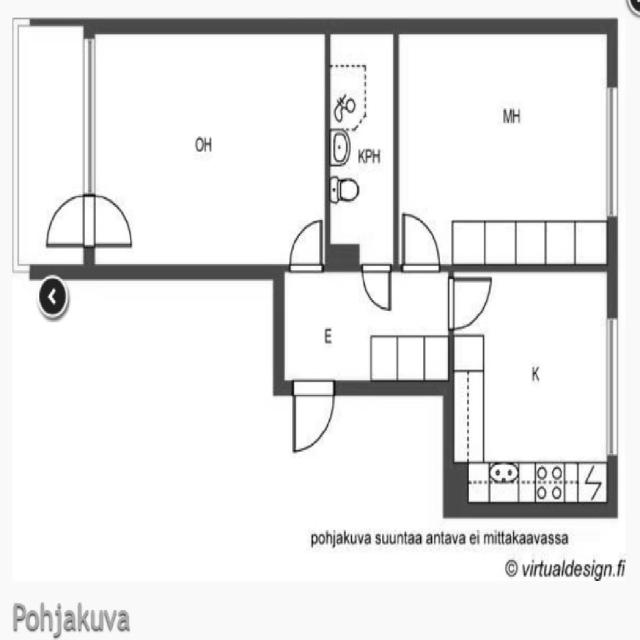door: (34, 193, 121, 248), (288, 376, 338, 458), (78, 190, 136, 246), (446, 271, 495, 334), (399, 208, 444, 276), (288, 216, 324, 275), (357, 259, 393, 316)
window: (76, 31, 100, 199), (601, 307, 622, 463), (601, 81, 623, 224)
zone: (86, 29, 332, 271), (394, 29, 618, 266), (452, 267, 615, 508), (280, 268, 453, 390), (326, 28, 396, 264), (40, 192, 94, 249)
